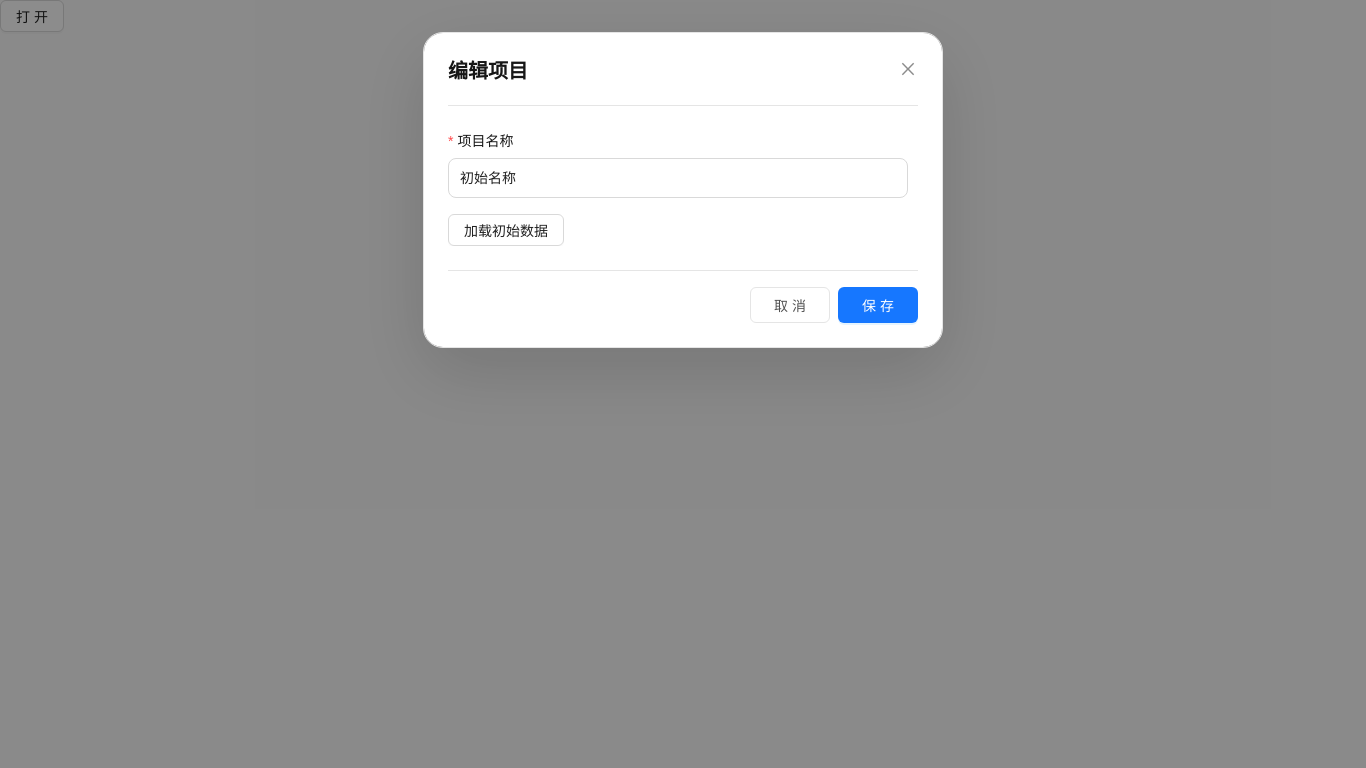
Scenario: form dialog session › does not treat programmatic initial values as unsaved user edits
The image size is (1366, 768).
Click the button "加载初始数据": (506, 230) [448, 214, 564, 246]
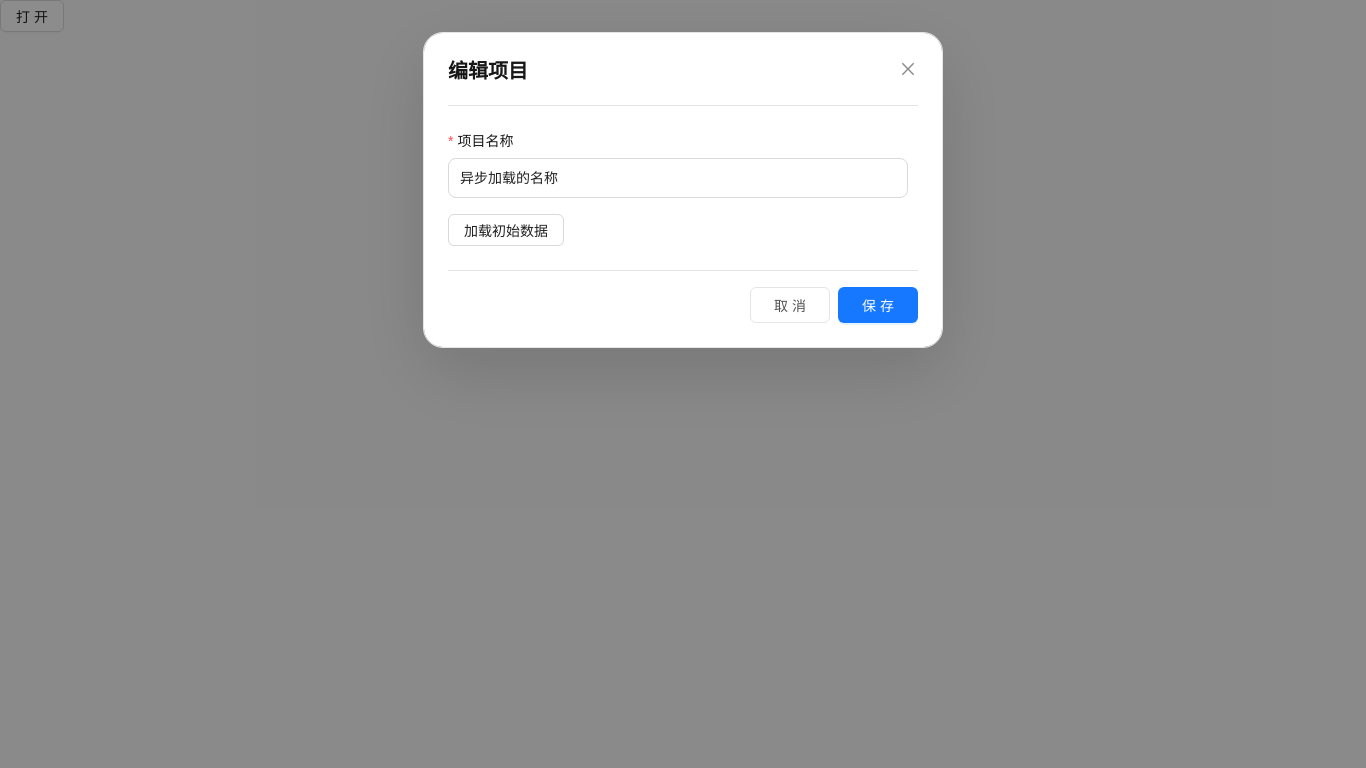
Click the button "取 消": (790, 305) [750, 287, 830, 323]
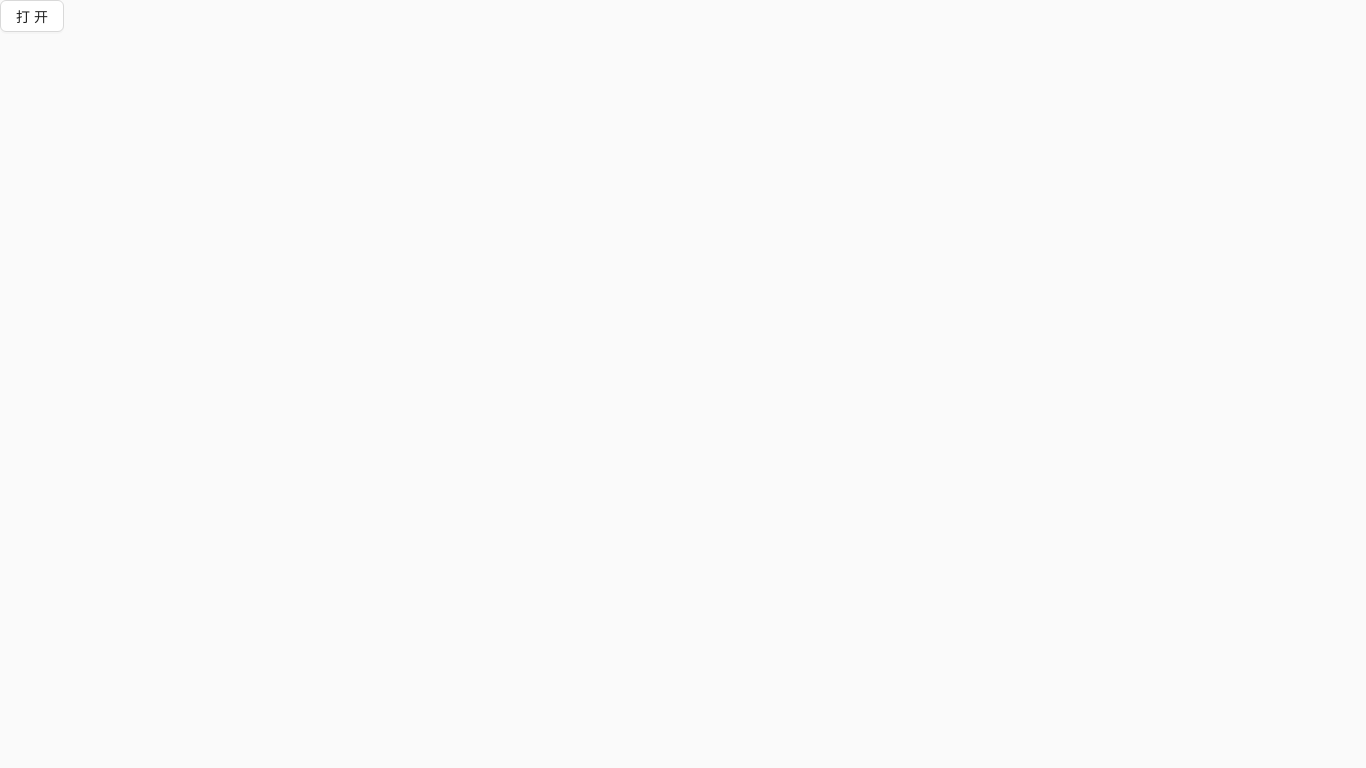
Now the dialog is gone
